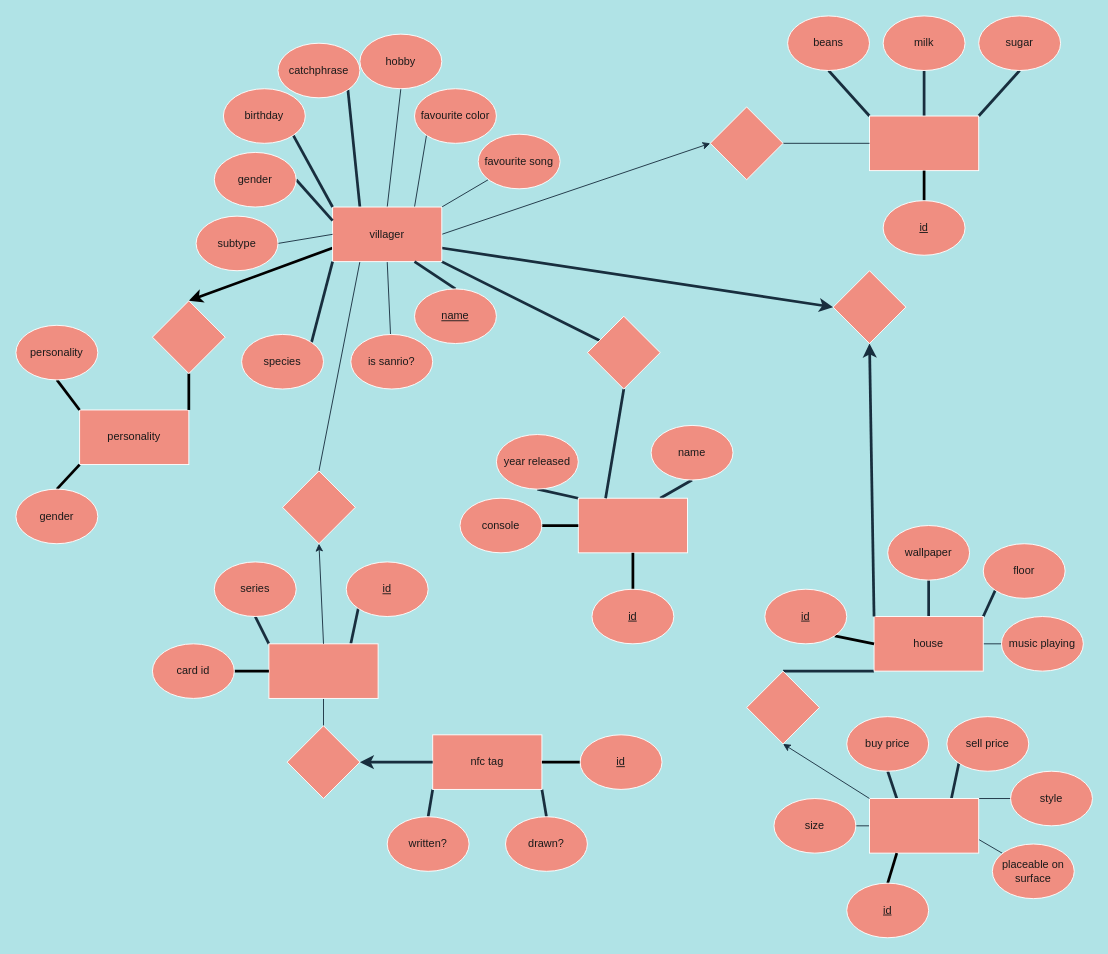
Some shapes in this 1108 by 954 pixel diagram are drawn without their labels. The centre of each missing label's shape, as x and y in pixels:
amiibo: the point at 323,670
coffee: the point at 924,143
contains: the point at 782,707
drinks: the point at 746,143
featured in: the point at 623,352
furniture: the point at 924,825
game: the point at 632,525
has: the point at 318,507
is: the point at 188,337
lives in: the point at 869,307
written to: the point at 323,762
